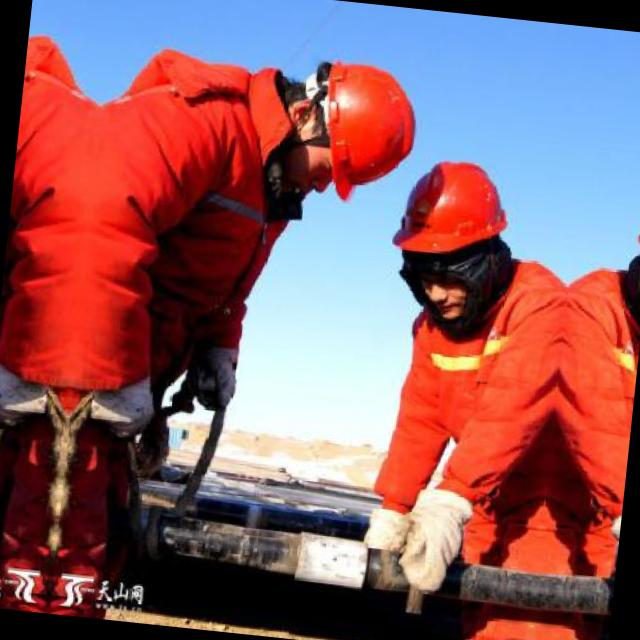helmet: (372, 140, 524, 329), (282, 42, 432, 203)
